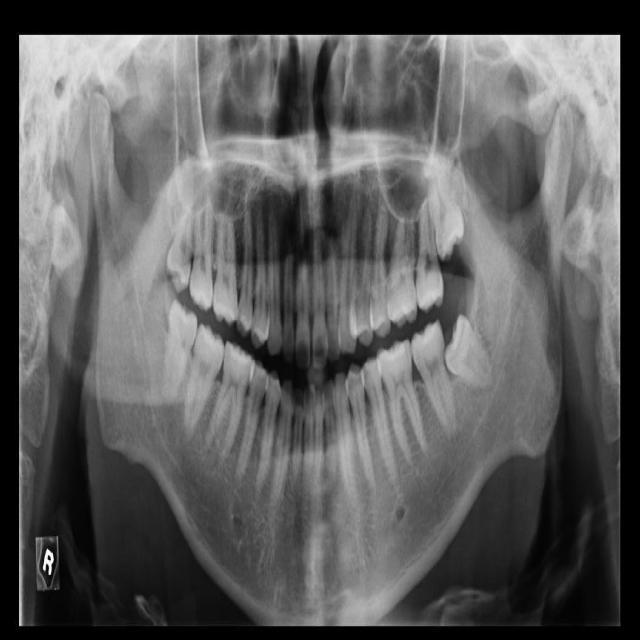3M ESPE Implant: (161, 163, 206, 295)
73: (593, 562, 600, 590)
BioHorizons Implant: (408, 179, 445, 314)
BioLife Implant: (419, 151, 471, 263)
Biomet 3i Implant: (427, 312, 505, 399)
Blue Sky Bio Implant: (405, 318, 461, 443)
Caries: (179, 206, 216, 313), (203, 184, 218, 281)
Implant: (179, 322, 229, 444)
Keystone Dental Implant: (159, 298, 200, 410)
